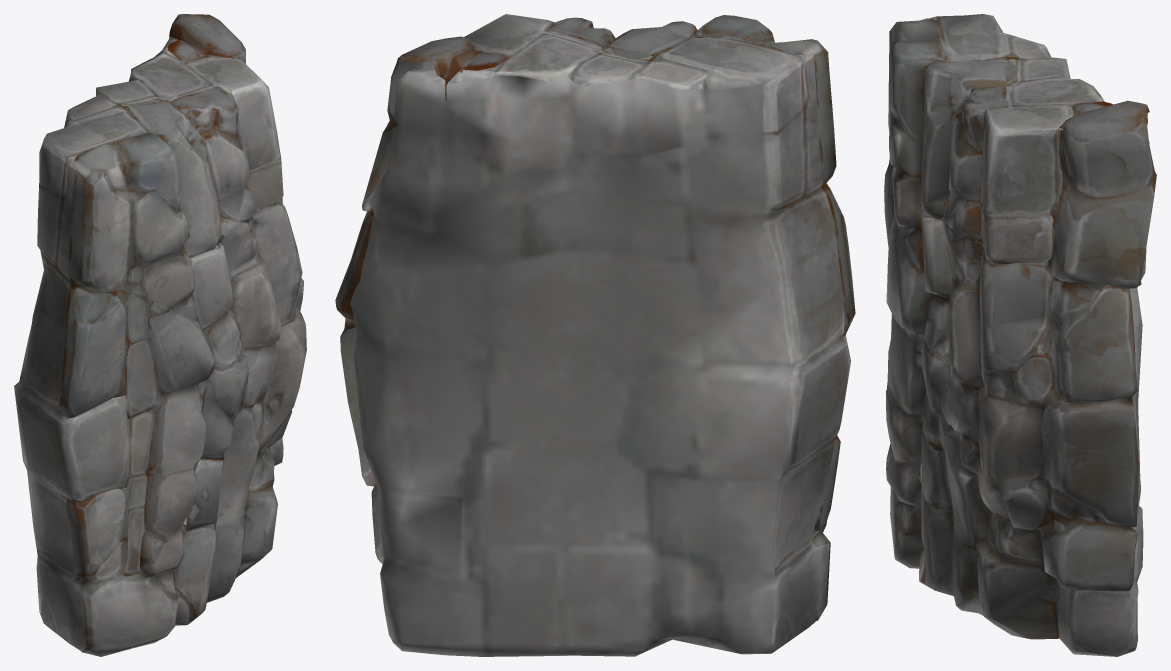
Rendered from Dn_HL_Stairs_Fine_4m_A_Dmg02.fbx.
3 views of the same model, side by side, from view 1: azimuth 30°, elevation 25°; view 2: azimuth 150°, elevation 25°; view 3: azimuth 270°, elevation 25° (orthographic). The views are drawn at different scales.
Visible parts, largest first — view 1: Dn_HL_Stairs_Fine_4m_A_Dmg02; view 2: Dn_HL_Stairs_Fine_4m_A_Dmg02; view 3: Dn_HL_Stairs_Fine_4m_A_Dmg02.
Part boxes in pixels (x1,y1,x2,y2): Dn_HL_Stairs_Fine_4m_A_Dmg02: (14, 14, 306, 656); Dn_HL_Stairs_Fine_4m_A_Dmg02: (335, 14, 855, 656); Dn_HL_Stairs_Fine_4m_A_Dmg02: (884, 14, 1156, 656).
Size of the model in its own units: 697 by 1044 by 483.
1 material, 1 textured.
